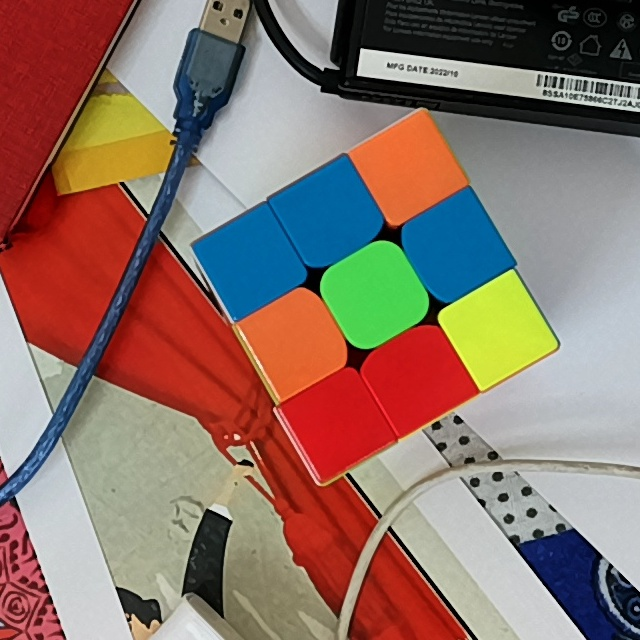tile: (423, 214, 489, 279), (306, 389, 369, 454), (387, 345, 451, 408), (377, 136, 440, 198), (345, 263, 408, 325), (467, 297, 530, 359), (298, 185, 360, 247), (264, 310, 326, 372), (222, 228, 280, 292)
